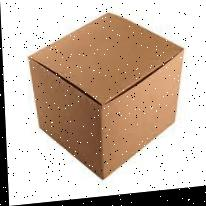cube: (28, 9, 187, 188)
